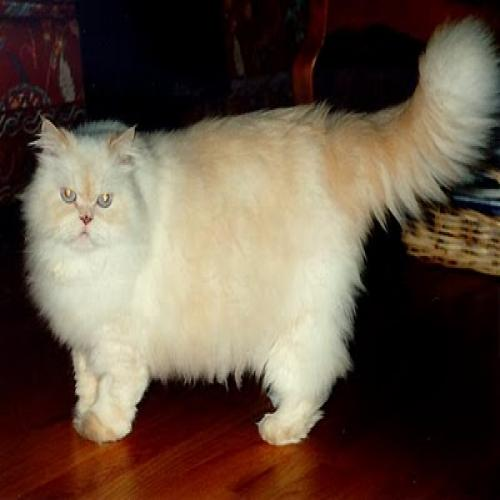persian: (19, 107, 156, 267)
